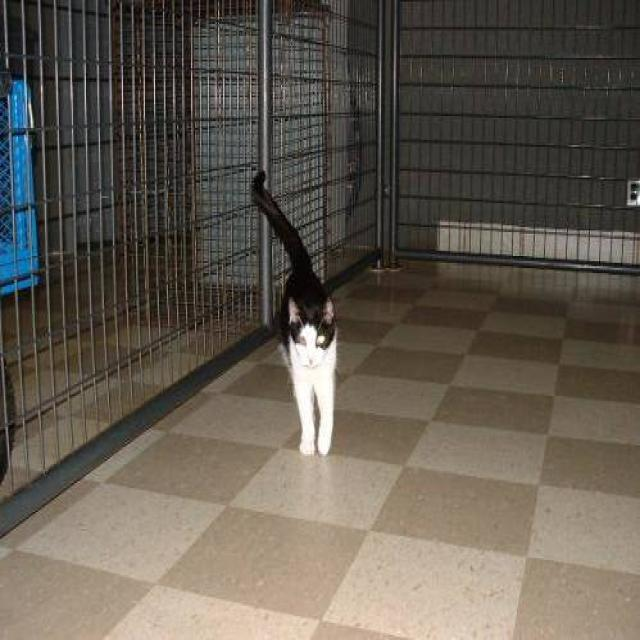cat: (250, 169, 337, 456)
